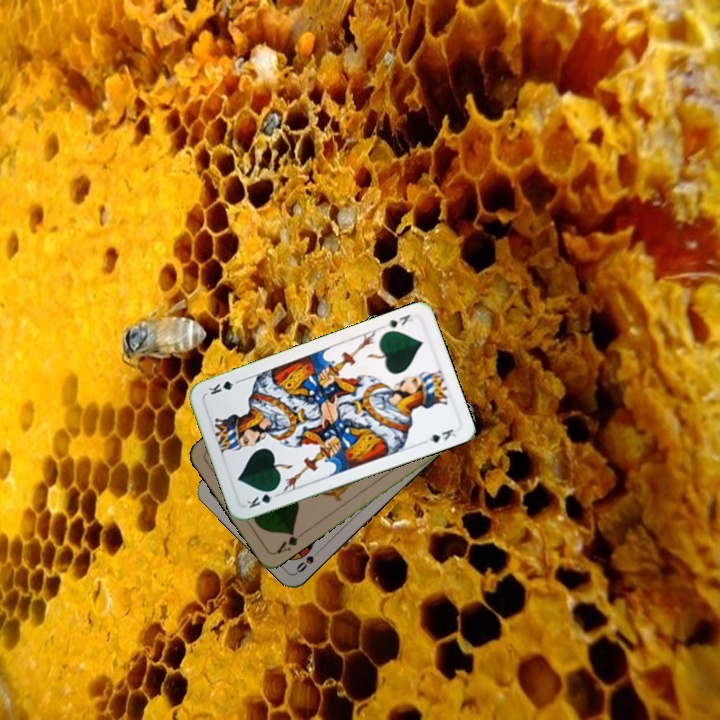GA: (272, 527, 307, 557)
GK: (243, 485, 282, 511), (381, 310, 416, 336)
SO: (292, 544, 325, 576)
